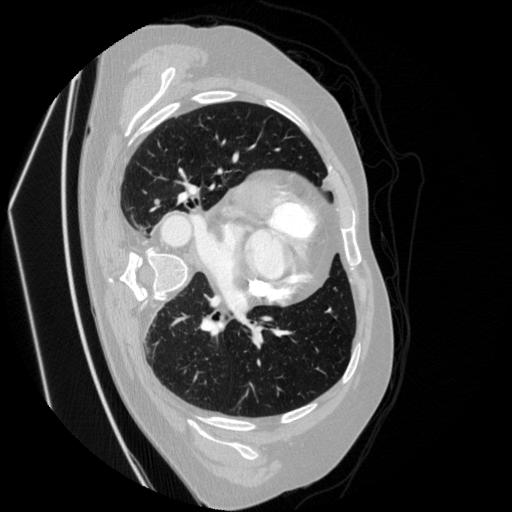nodule: (152, 197, 165, 210)
